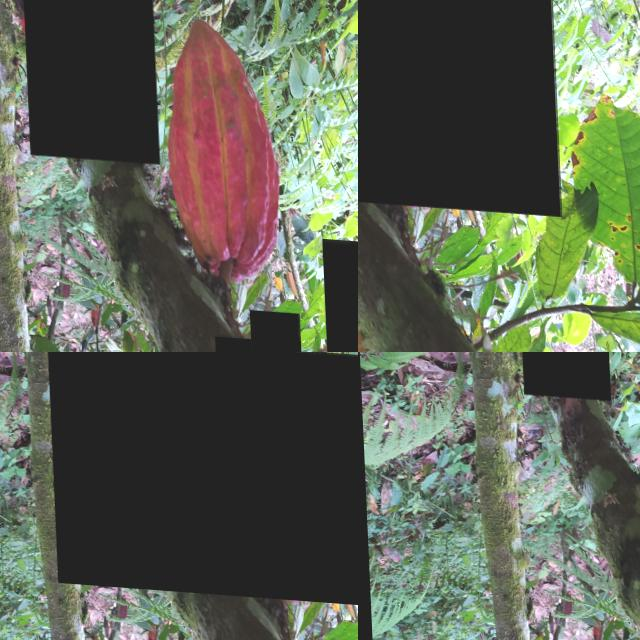Fitoftora: (358, 0, 557, 209), (16, 0, 157, 160), (514, 352, 608, 397)
Monilia: (45, 352, 358, 602)
Sana: (318, 231, 358, 352), (245, 304, 299, 352), (210, 329, 259, 352)
